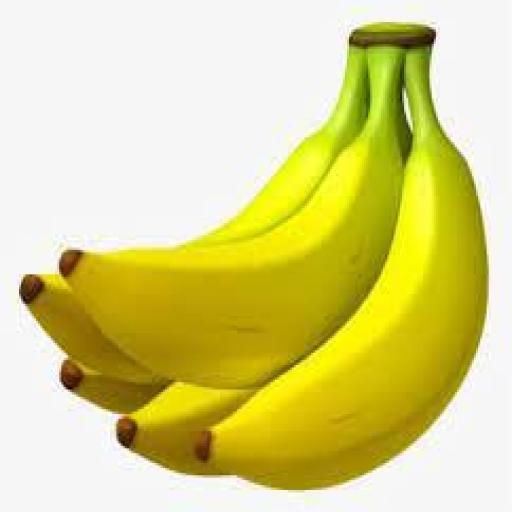banana: (195, 45, 486, 487), (60, 47, 404, 387)
